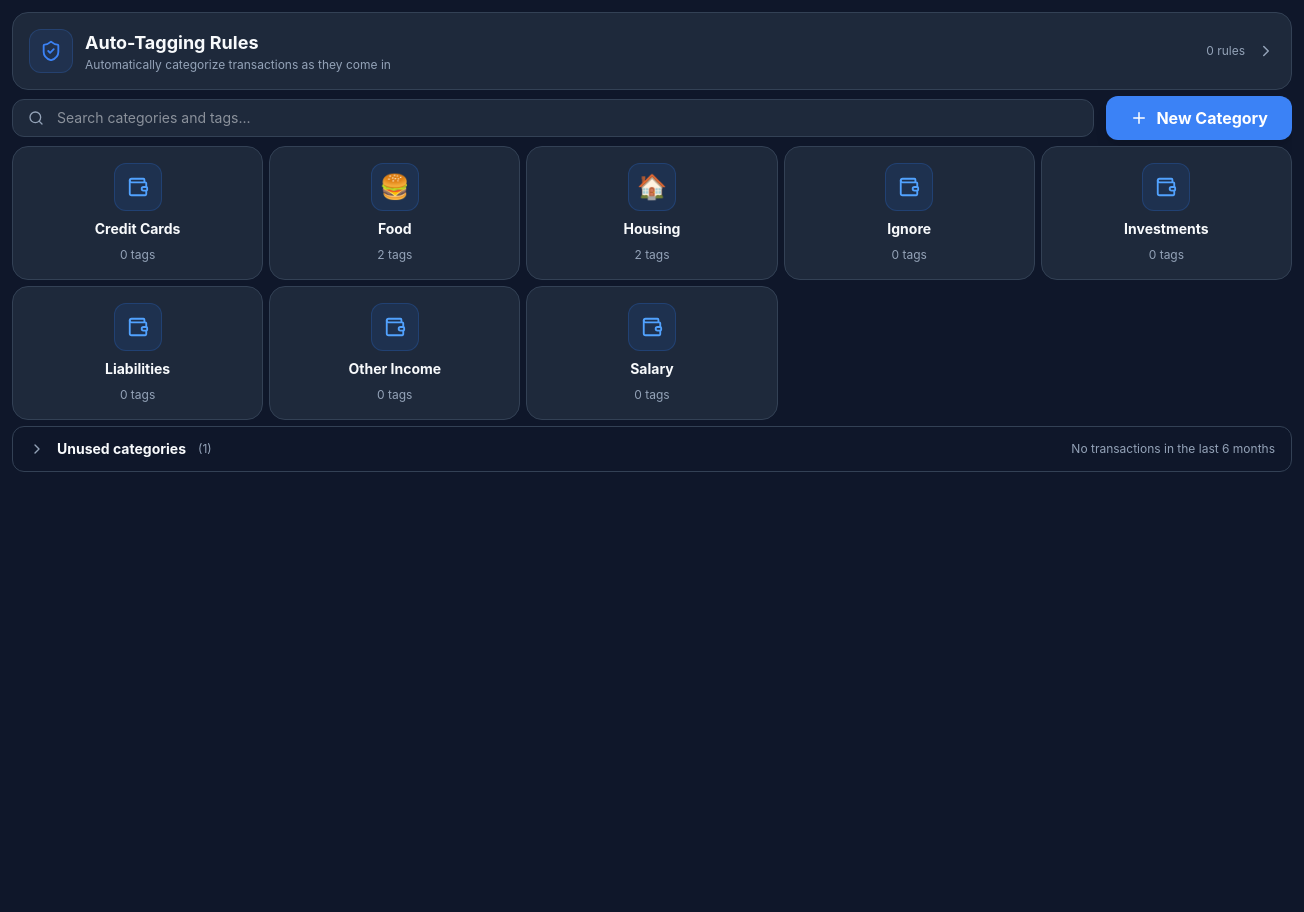
Scenario: Categories › unused categories › moves unused categories out of the main grid and into the section
expect the button with test id "category-card-Food" is shown: met, box [269, 146, 520, 280]
Step 1. Click the button with test id "unused-categories-toggle" → x=122, y=448, box [13, 427, 1291, 471]
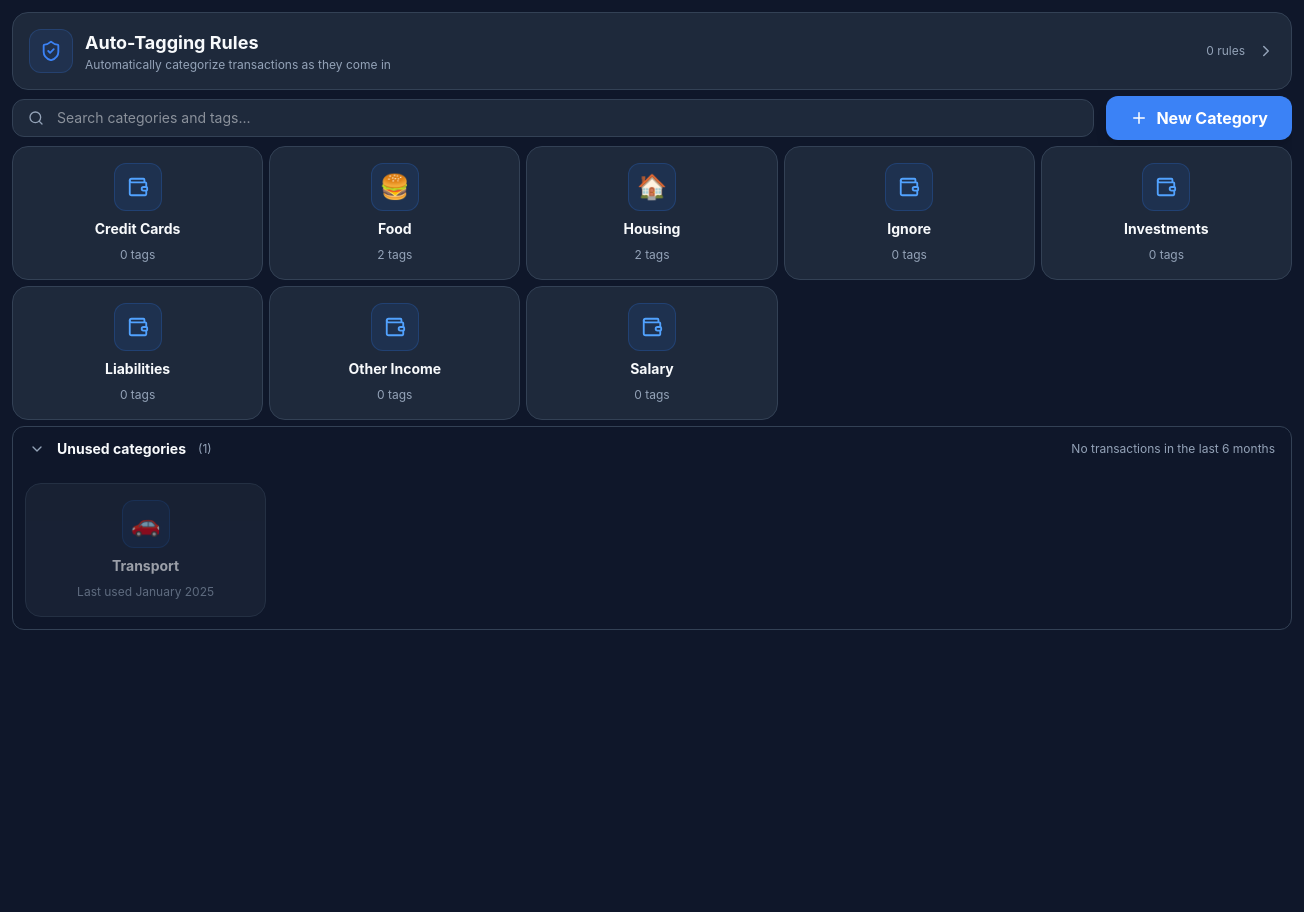
expect the button with test id "category-card-Transport" is shown: met, box [25, 483, 266, 617]
